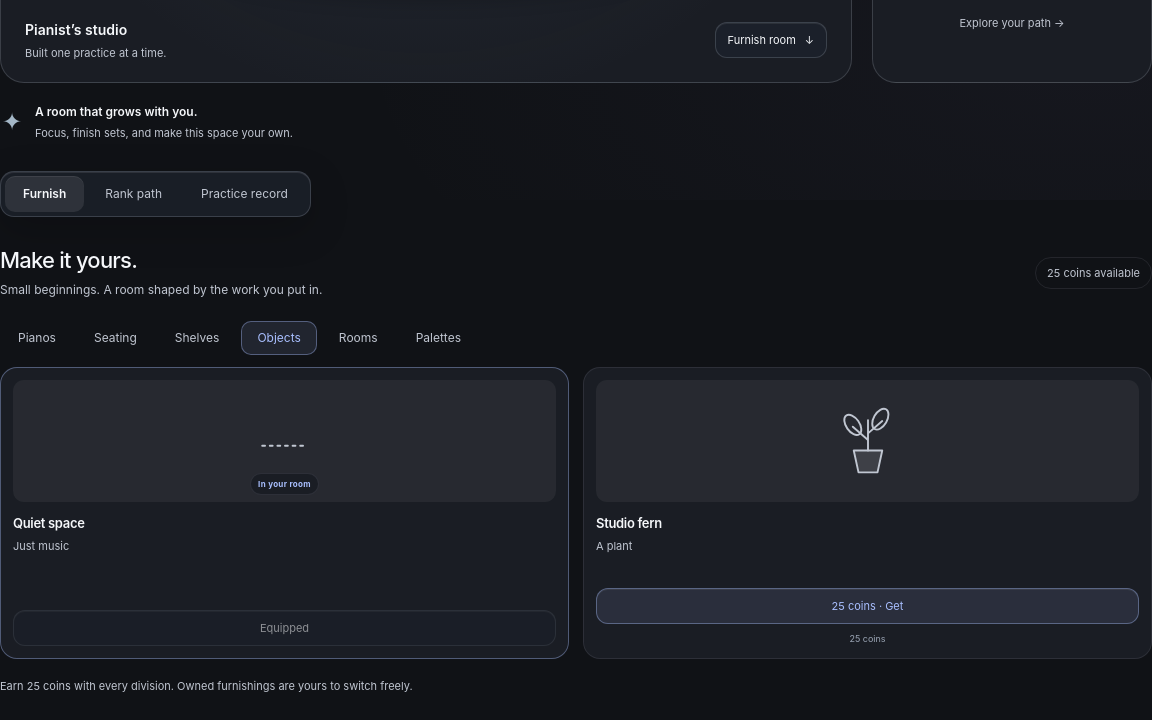
it: keeps rejected purchase error and revision refresh inside the active dialog
(page scrolled)
Click the button "25 coins · Get" at [868, 606], box [596,588,1139,624]
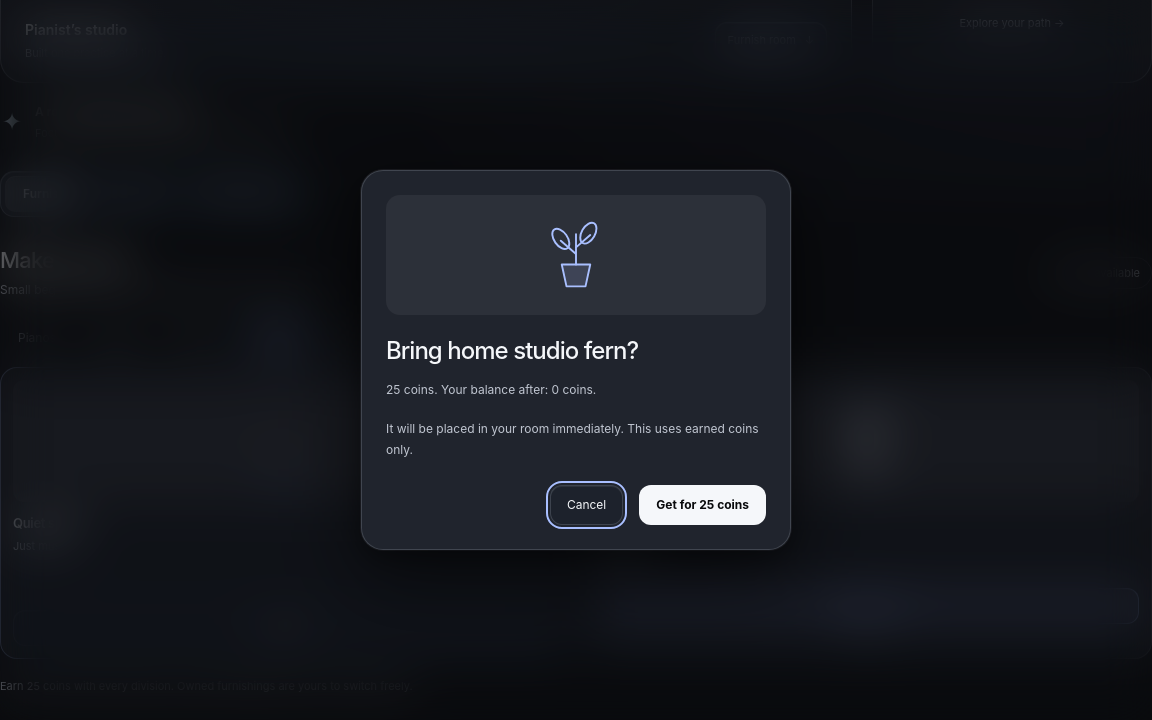
Click the button "Get for 25 coins" at [703, 505], box [639,485,766,525]
(page scrolled)
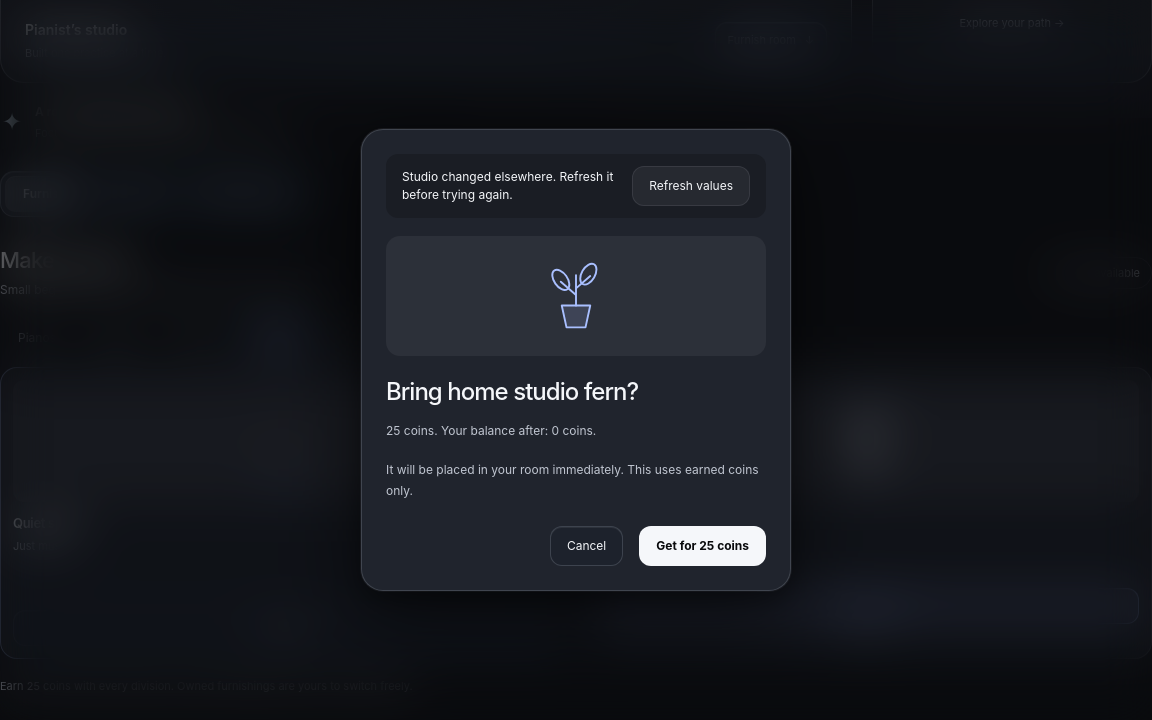
Check: the message shows "Studio changed elsewhere", box [402,169,613,202]
Click the button "Refresh values" at [691, 186], box [632,166,750,206]
(page scrolled)
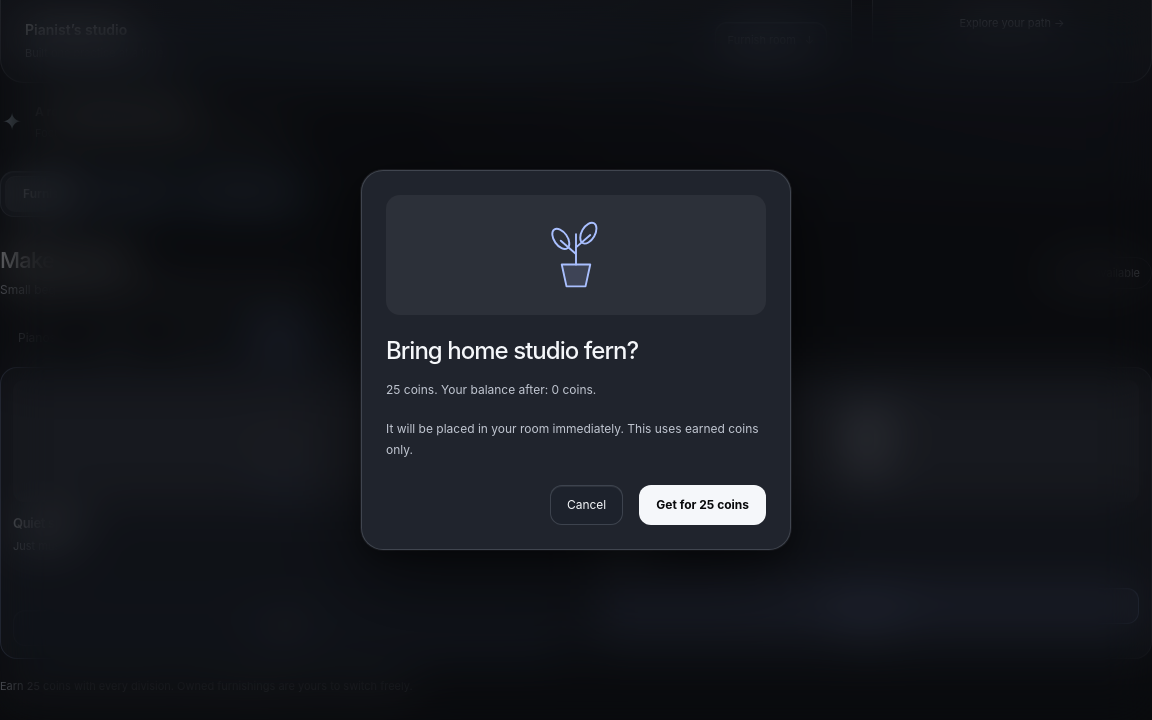
Click the button "Get for 25 coins" at [703, 505], box [639,485,766,525]
(page scrolled)
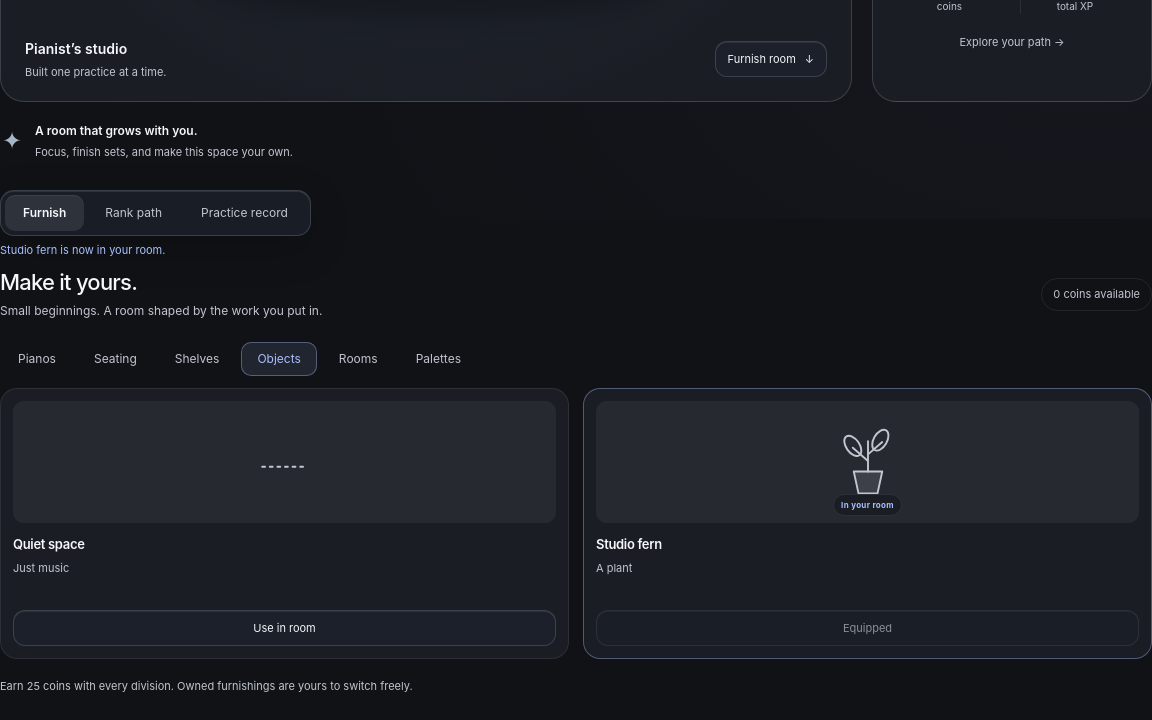
Check: the dialog is gone
Check: the text "Studio fern is now in your room." is shown, box [0,243,165,257]
